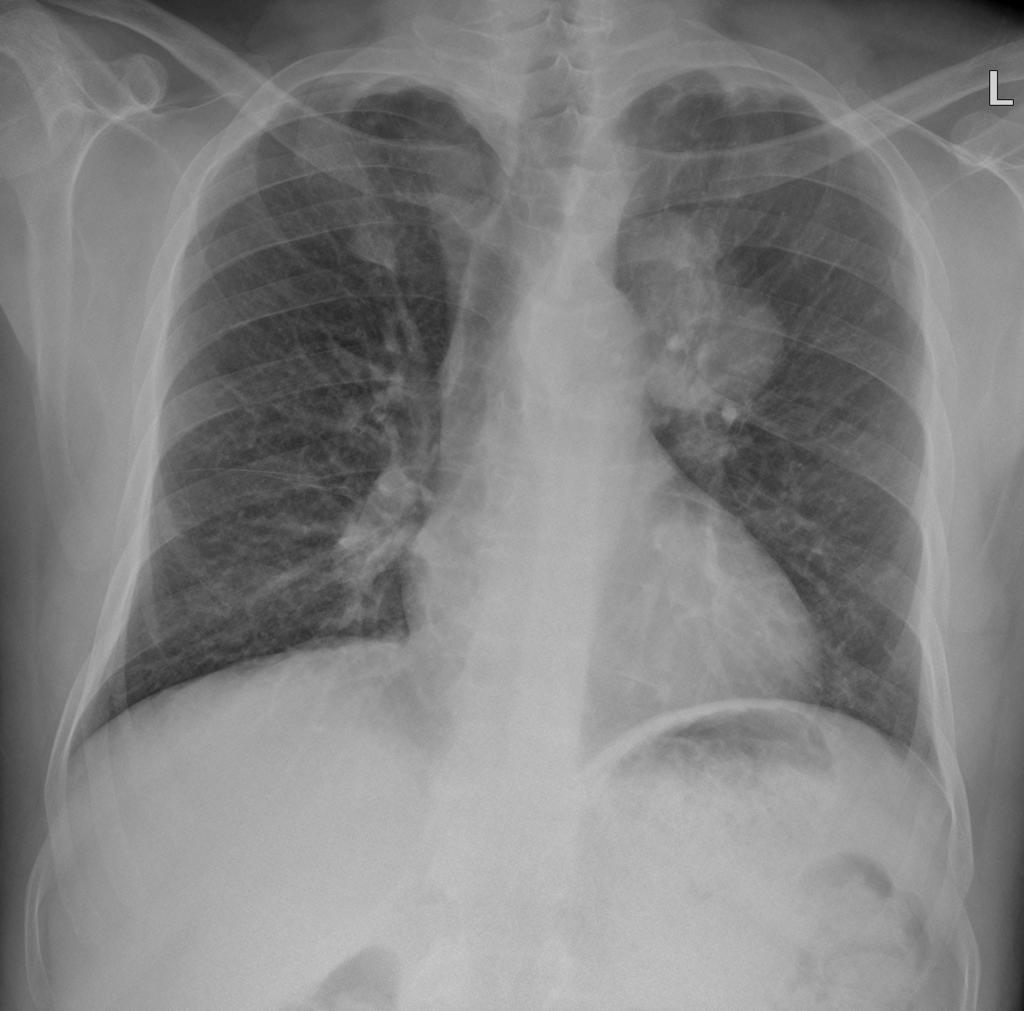cancer: (151, 102, 437, 687)
